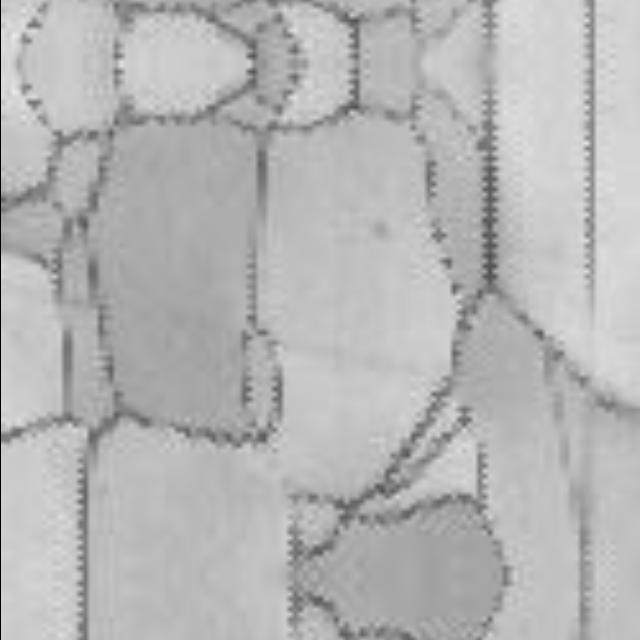good_void: (371, 220, 390, 248)
